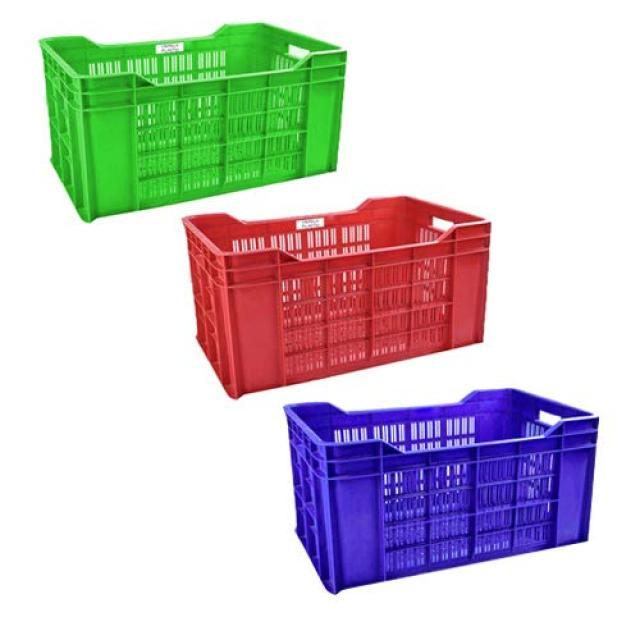basket: (271, 343, 625, 600), (170, 151, 517, 404)
